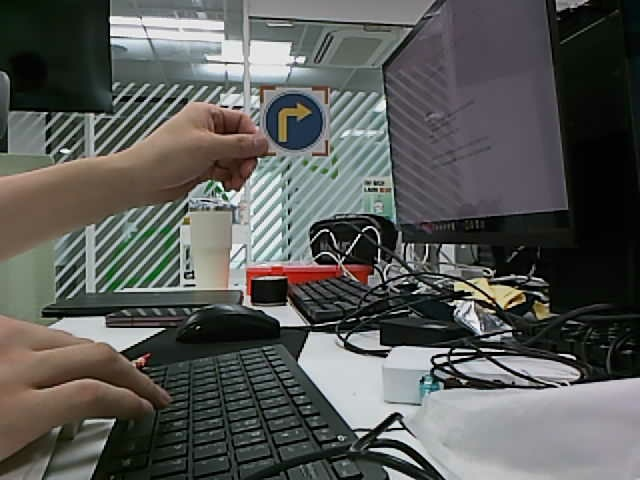right: (263, 91, 325, 151)
